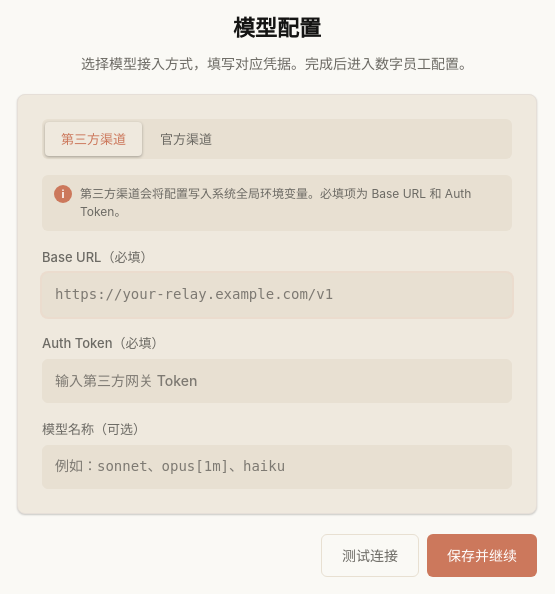
ModelConfig Page › Provider toggle › switches to official mode when clicked
The width and height of the screenshot is (555, 594).
Click the button "官方渠道": [186, 139] box [144,122,228,156]
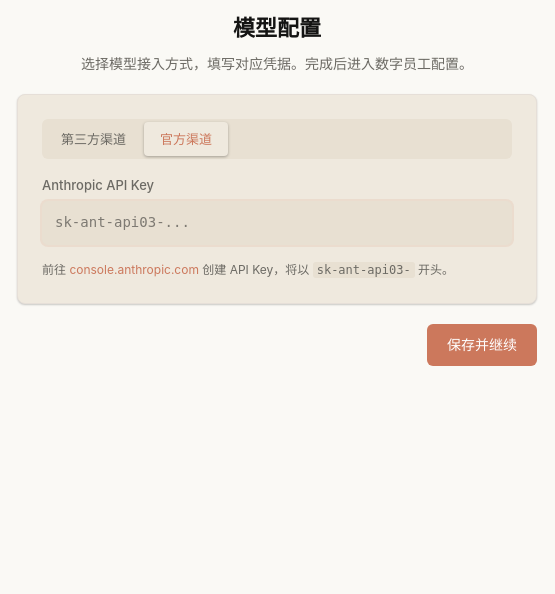
expect the password field with placeholder "sk-ant-api03-..." is shown: met, box [42,201,512,245]
